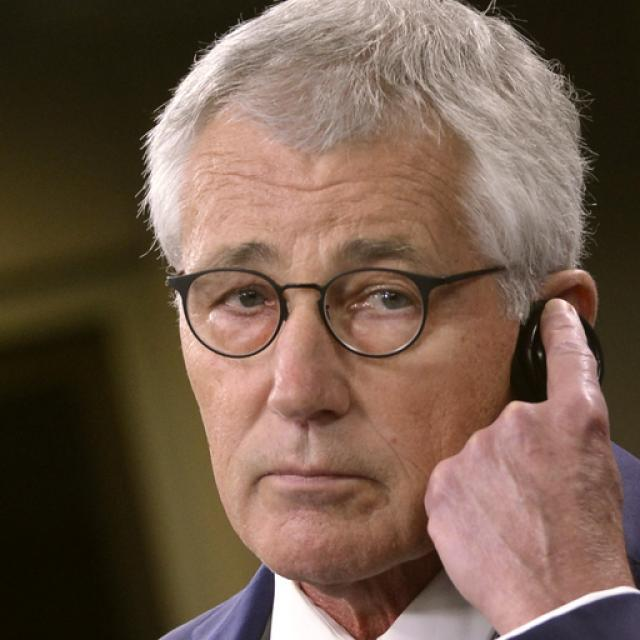sad: (182, 91, 526, 580)
